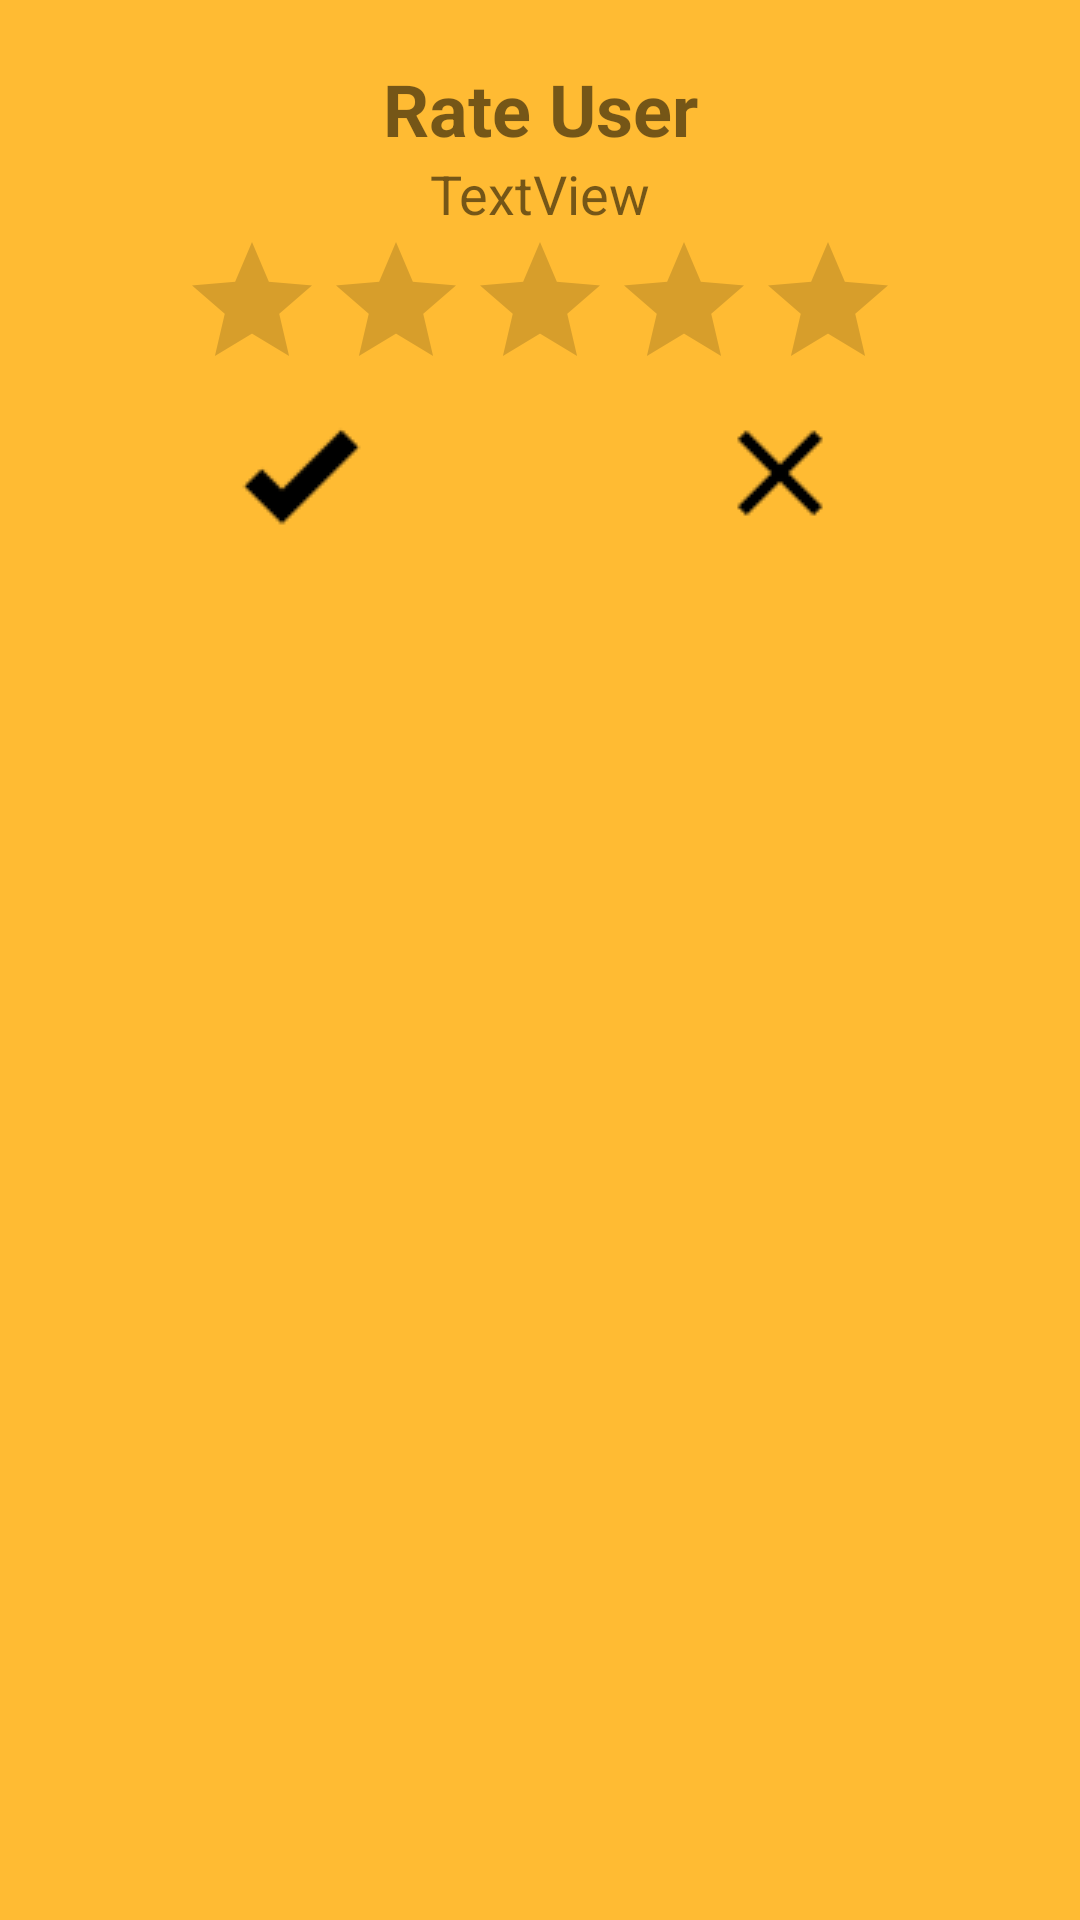

Point at icon controls on the screen. Image size 1080 × 1920, points as point (x, y).
check: point (301, 477)
close: point (780, 473)
